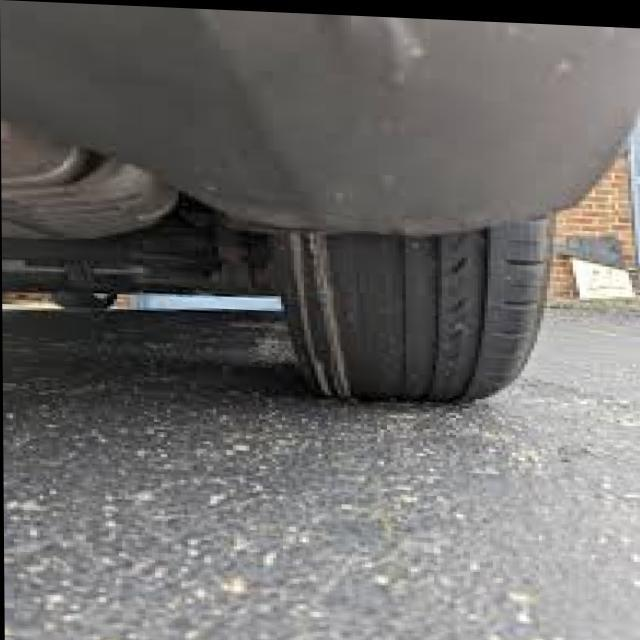Flat spots: (298, 232, 530, 399)
